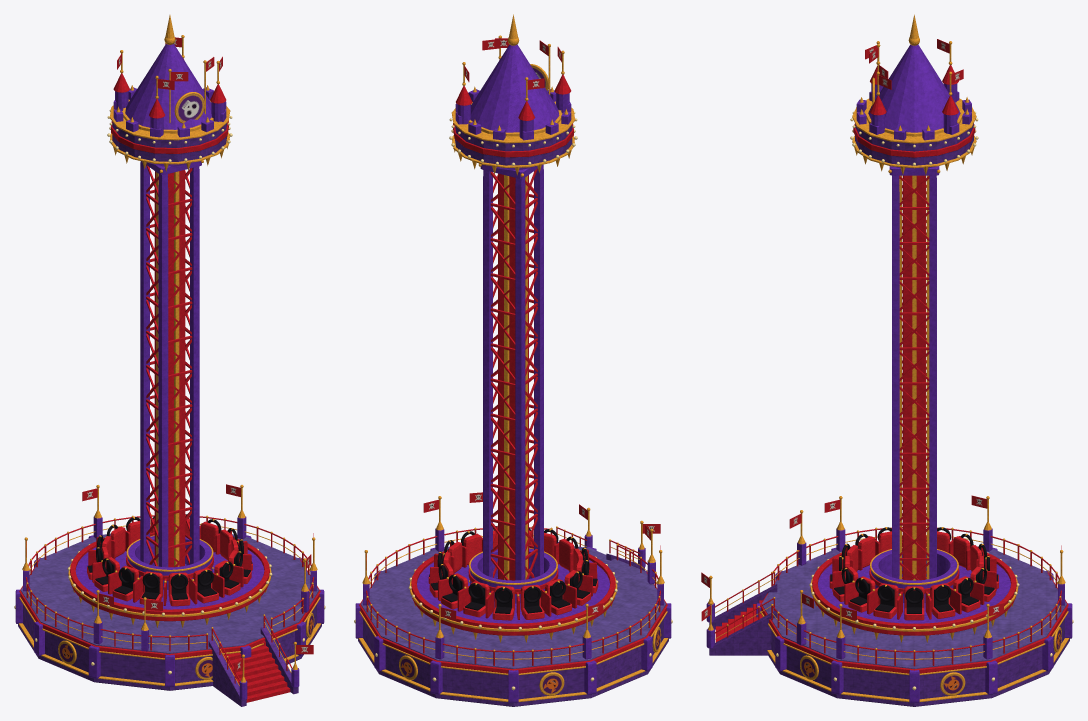
File: GD_GyroDrop.fbx
3 renders of one model, left to right at view 1: azimuth 30°, elevation 25°; view 2: azimuth 150°, elevation 25°; view 3: azimuth 270°, elevation 25°, orthographic. The views are drawn at different scales.
Visible parts, largest first — view 1: GD_Platform, GD_Tower, GD_Ring, GD_Crown; view 2: GD_Platform, GD_Tower, GD_Ring, GD_Crown; view 3: GD_Platform, GD_Tower, GD_Ring, GD_Crown.
Part boxes in pixels (x1=…): GD_Platform: x1=14, y1=484, x2=325, y2=706; GD_Tower: x1=140, y1=160, x2=203, y2=567; GD_Ring: x1=67, y1=514, x2=272, y2=627; GD_Crown: x1=107, y1=15, x2=232, y2=171; GD_Platform: x1=354, y1=492, x2=672, y2=706; GD_Tower: x1=478, y1=163, x2=543, y2=580; GD_Ring: x1=408, y1=526, x2=618, y2=642; GD_Crown: x1=449, y1=14, x2=577, y2=175; GD_Platform: x1=701, y1=495, x2=1073, y2=706; GD_Tower: x1=888, y1=166, x2=940, y2=580; GD_Ring: x1=809, y1=527, x2=1019, y2=642; GD_Crown: x1=850, y1=14, x2=978, y2=174.
Size of the model in its own units: 23.05 by 50.1 by 26.96.
